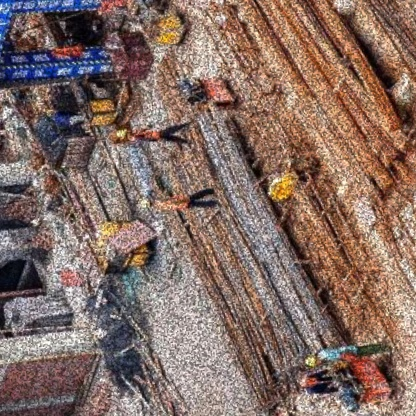red: (296, 376, 318, 391)
vest: (149, 193, 192, 218), (123, 127, 162, 150)
yellow: (299, 354, 317, 371), (109, 127, 129, 142), (136, 198, 154, 212)
